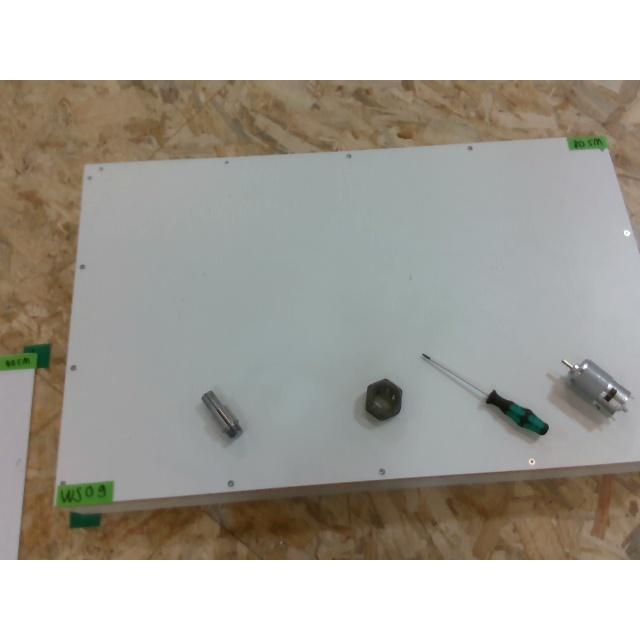Axis2: (202, 390, 242, 436)
M30: (365, 378, 401, 418)
Motor2: (560, 359, 632, 417)
Screwdriver: (420, 353, 548, 433)
